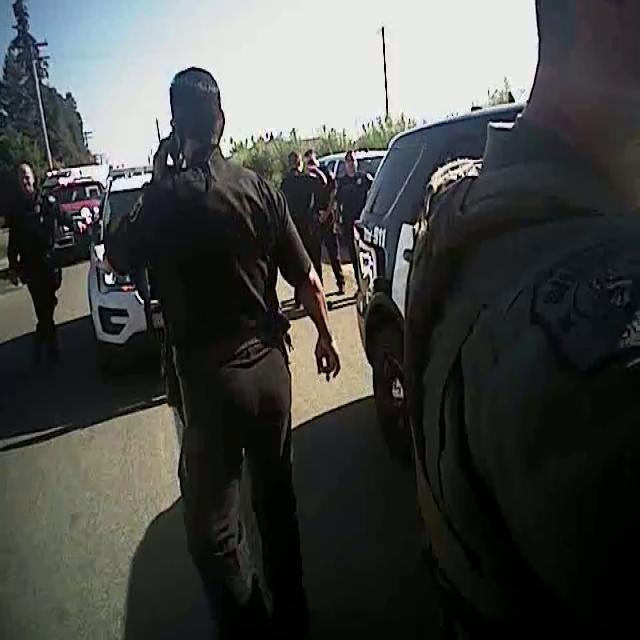gun: (148, 335, 197, 436)
